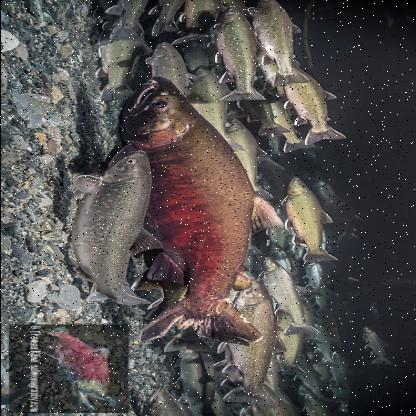fish: (102, 76, 282, 347), (71, 150, 165, 304), (214, 280, 278, 408), (134, 215, 204, 329), (207, 5, 265, 102), (182, 67, 244, 154), (282, 63, 346, 145), (249, 2, 310, 85), (282, 176, 340, 262), (256, 257, 316, 336), (219, 114, 271, 198), (94, 16, 144, 100), (146, 42, 194, 122), (257, 90, 313, 152), (272, 301, 314, 375), (174, 340, 216, 413), (236, 84, 288, 136), (289, 353, 330, 400), (360, 326, 396, 366), (310, 324, 338, 369), (304, 258, 326, 300), (328, 352, 352, 390)
